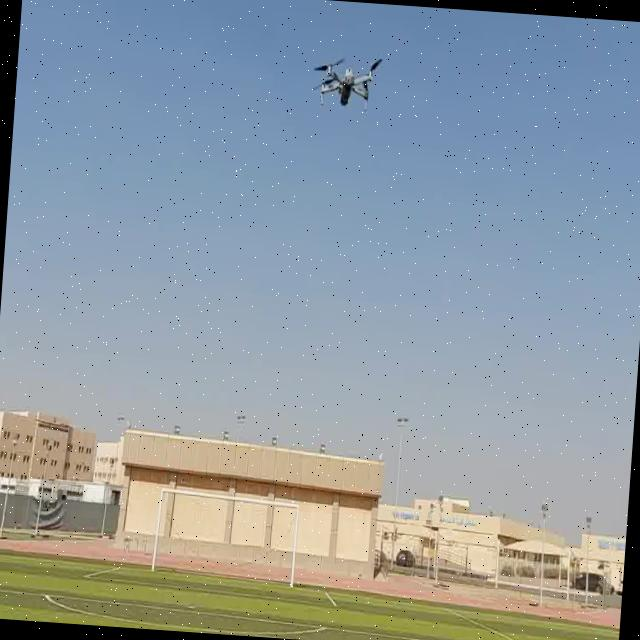drone: (303, 44, 387, 124)
